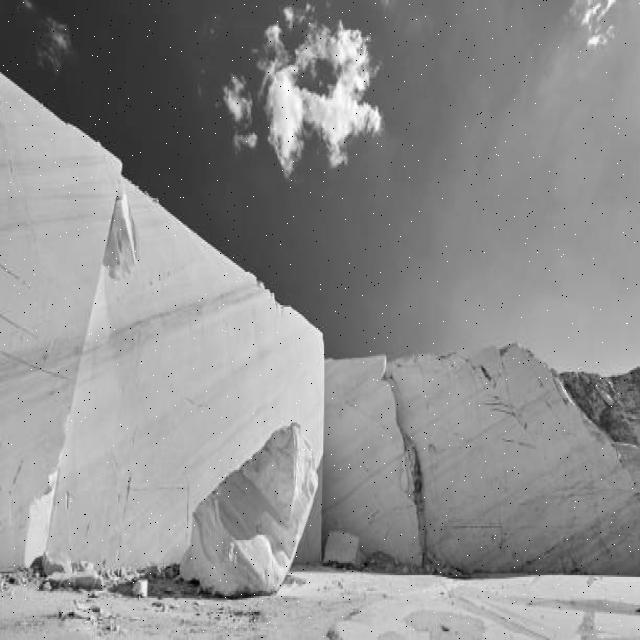Metamorphic: (1, 65, 640, 584), (188, 424, 335, 591)
